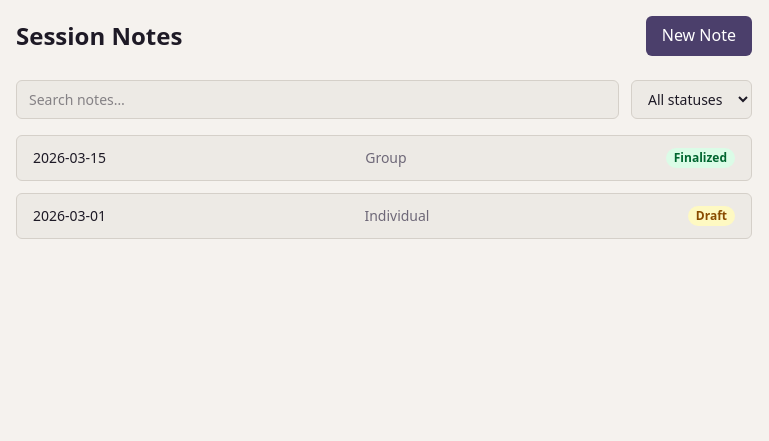
Test: Session history page › collapsing an expanded row hides SOAP fields
Click the text "2026-03-01" at (70, 216), box [33,206,106,226]
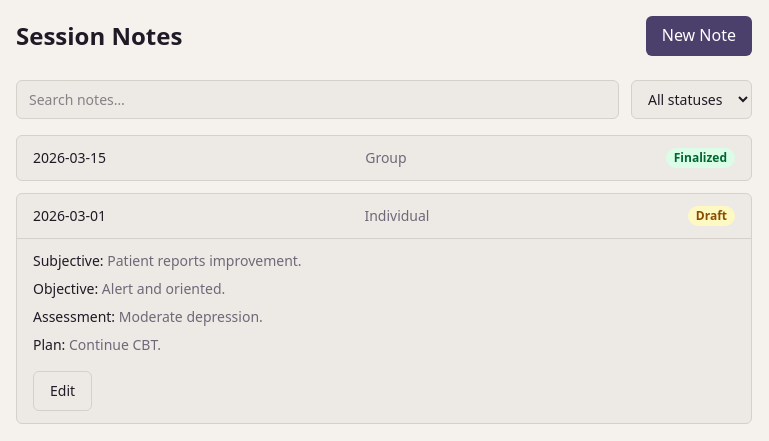
Expected: the text "Patient reports improvement." is shown, [107,251,302,270]
Click the text "2026-03-01" at (70, 216), box [33,206,106,226]
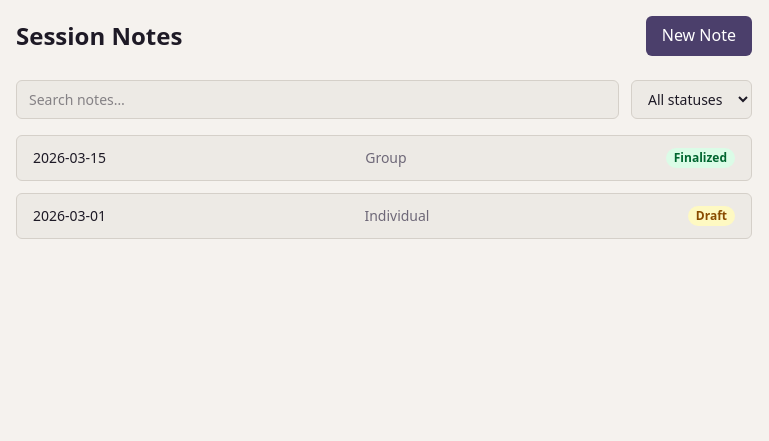
Expected: the text "Patient reports improvement" is gone
